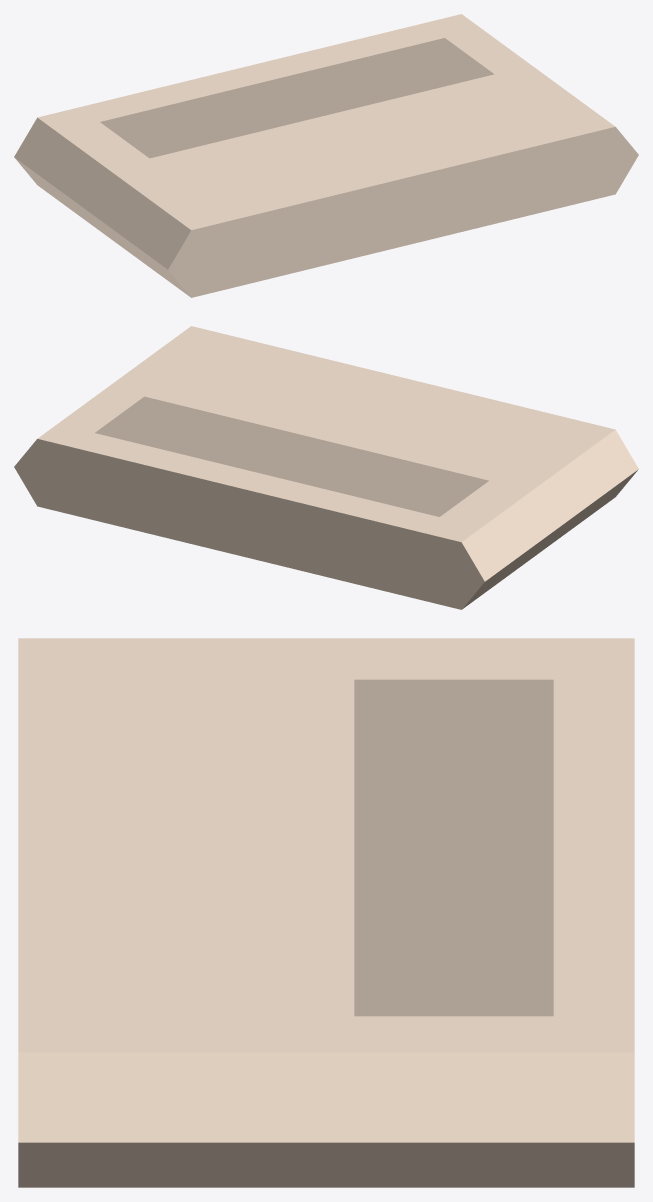
Rendered from MRE.fbx.
The picture shows the model from 3 angles, top to bottom: view 1: azimuth 30°, elevation 25°; view 2: azimuth 150°, elevation 25°; view 3: azimuth 270°, elevation 25°; orthographic projection. The views are drawn at different scales.
Visible parts, largest first — view 1: MRE; view 2: MRE; view 3: MRE.
Boxes of the visible parts, bbox=[...] form: MRE: bbox=[14, 14, 638, 297]; MRE: bbox=[14, 326, 638, 609]; MRE: bbox=[18, 638, 634, 1187].
Bounding box in the file's own units: 0.2184 × 0.03 × 0.1238.
